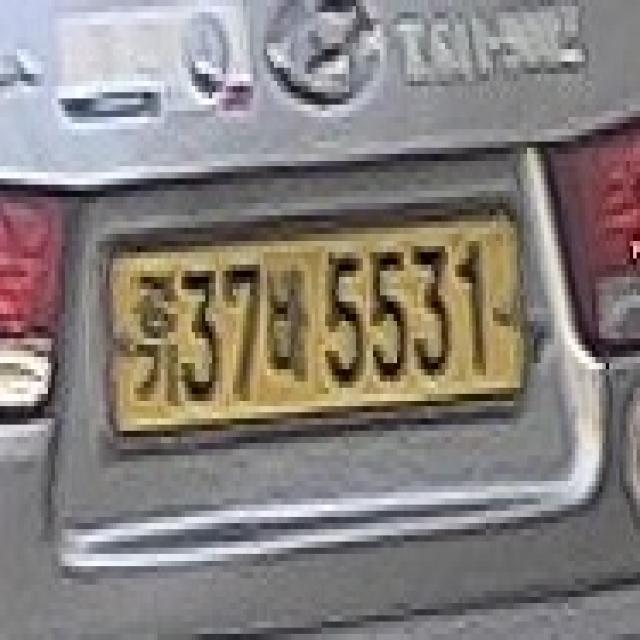plat: (104, 206, 527, 436)
